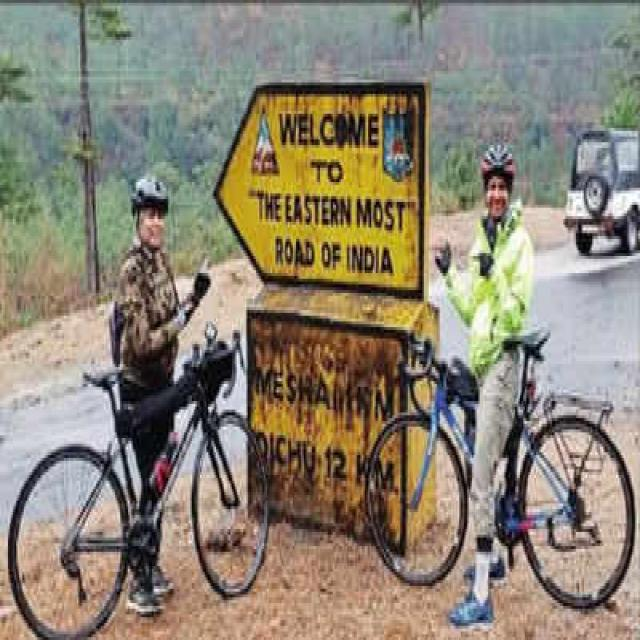bicycle: (366, 144, 635, 628), (9, 180, 268, 638)
